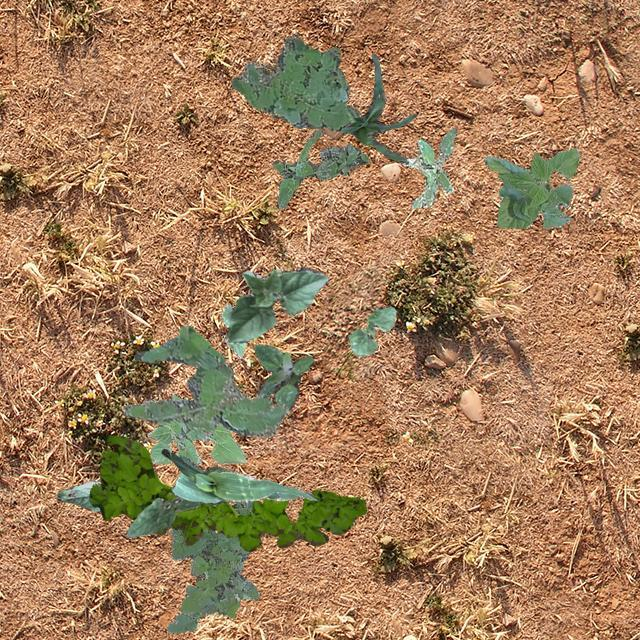crop: (160, 448, 318, 502), (340, 53, 416, 164), (225, 266, 328, 342), (484, 148, 578, 228), (124, 466, 226, 536), (147, 394, 245, 464), (348, 304, 396, 354), (220, 302, 244, 358), (56, 480, 100, 510)
weed: (88, 434, 366, 550), (122, 324, 288, 440), (230, 34, 358, 130), (166, 499, 258, 632), (272, 128, 368, 208), (403, 128, 455, 208), (253, 344, 313, 412)
